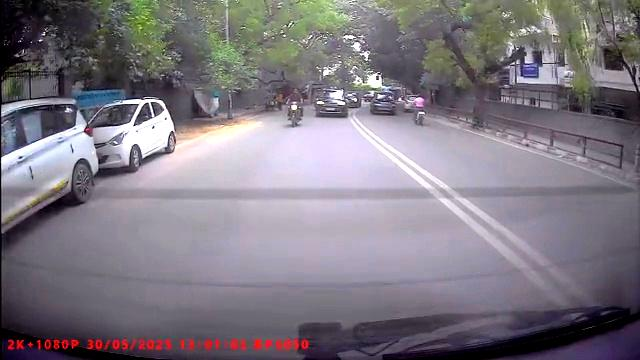motorcycle_without_helmet: (286, 87, 303, 128)
